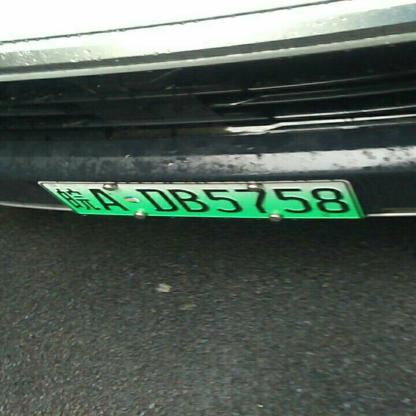lp: (38, 182, 78, 216)
